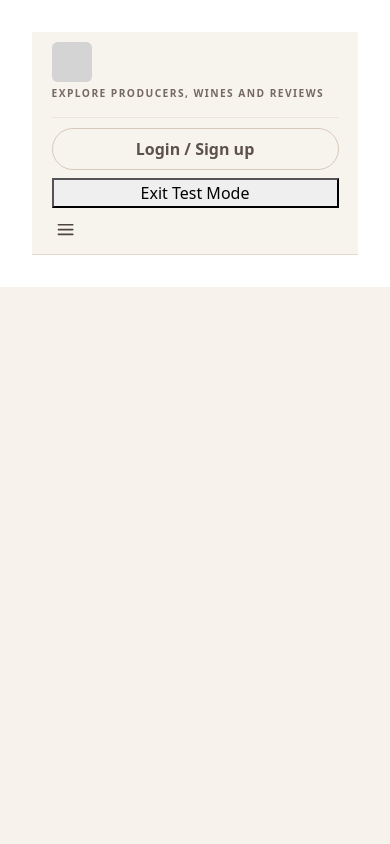
Test case: Header mobile menu › expands the menu when the button is clicked
The image size is (390, 844).
Click the button named "Open menu": (65, 230) top-left (52, 216), bottom-right (79, 244)
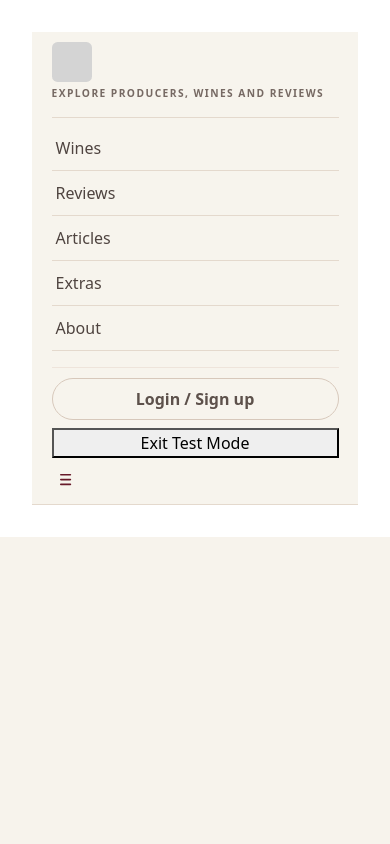
Expected: the button named "Open menu" is expanded, top-left (52, 466), bottom-right (79, 494)
